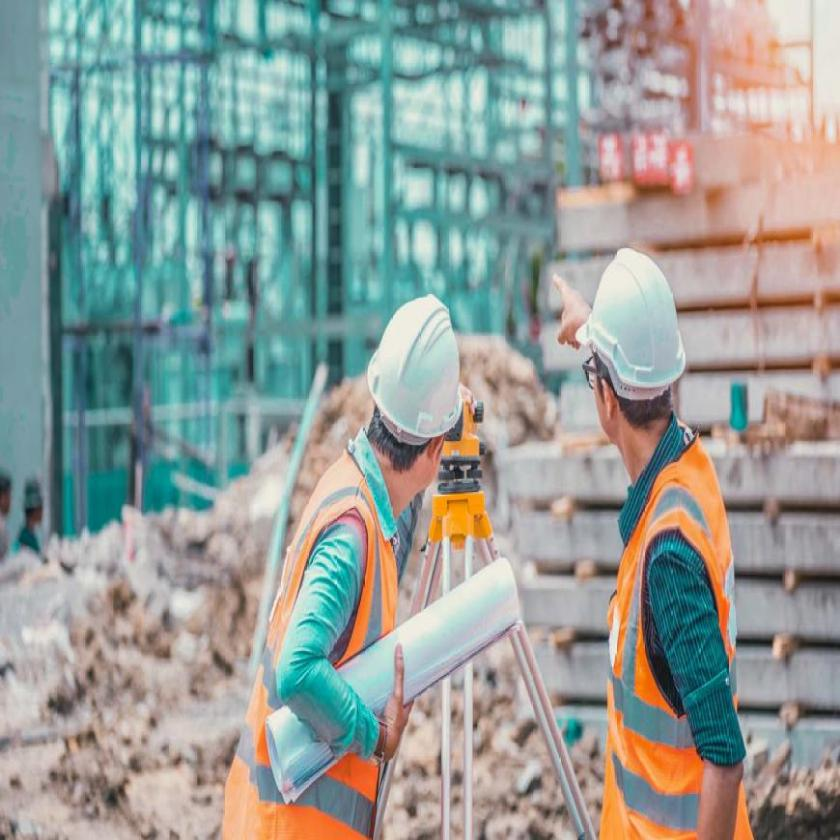Con_casco: (573, 241, 688, 463), (362, 286, 468, 506)
